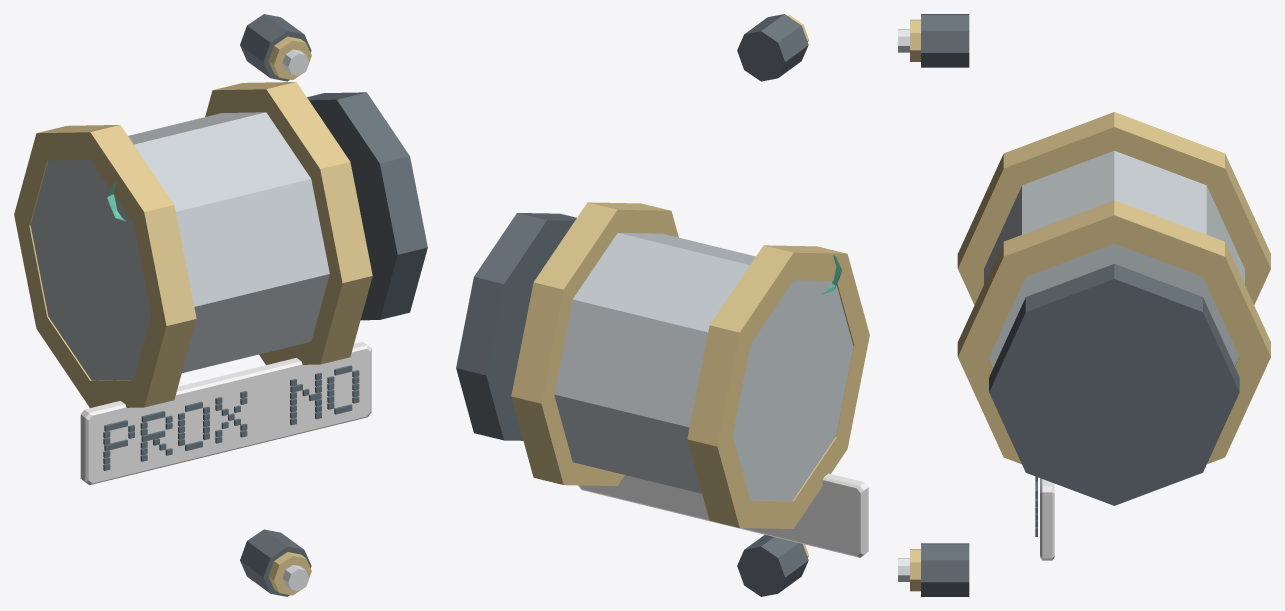
File: sensor.glb
3 views of the same model, side by side, from view 1: azimuth 30°, elevation 25°; view 2: azimuth 150°, elevation 25°; view 3: azimuth 270°, elevation 25° (orthographic). The views are drawn at different scales.
Parts seen in each view (by area): view 1: sensor-board; view 2: sensor-board; view 3: sensor-board.
Part boxes in pixels (x1,y1,x2,y2): sensor-board: [14, 14, 427, 596]; sensor-board: [456, 14, 869, 596]; sensor-board: [898, 14, 1270, 596].
Size of the model in its own units: 1.26 by 2.15 by 1.25.
